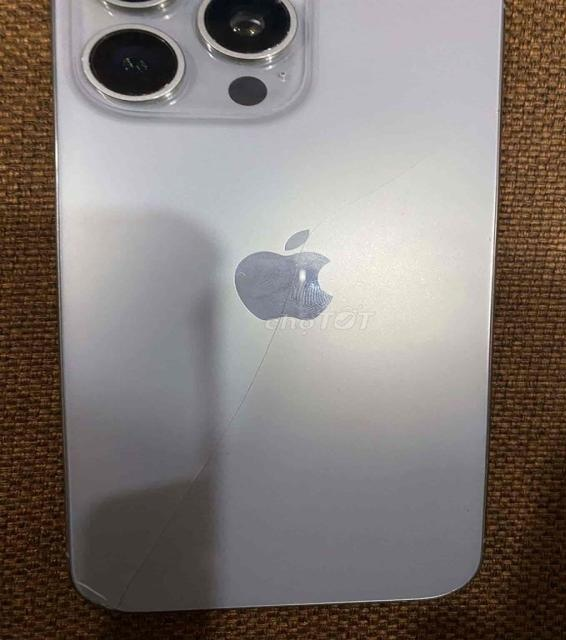physical_damage: (185, 181, 334, 463), (64, 470, 190, 613), (331, 124, 475, 207)
